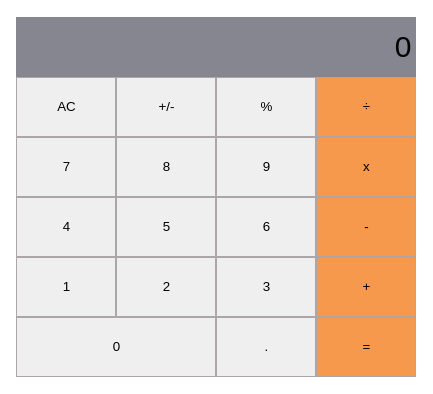
should display the value
Click the button "5": (166, 227) [116,197,216,257]
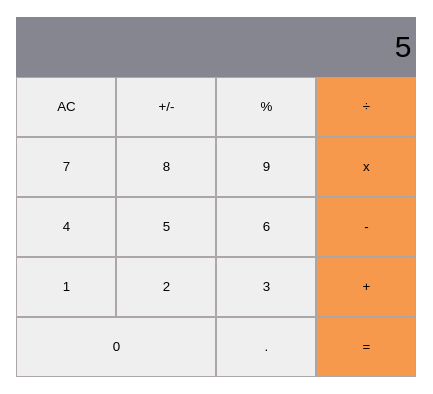
Result: the field with class "calInput" holds "5" at [16,17,416,77]
